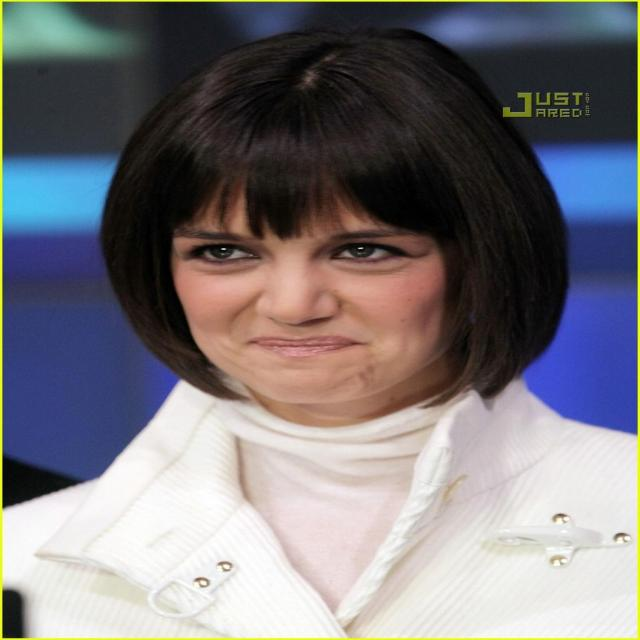Face: (147, 162, 469, 418)
